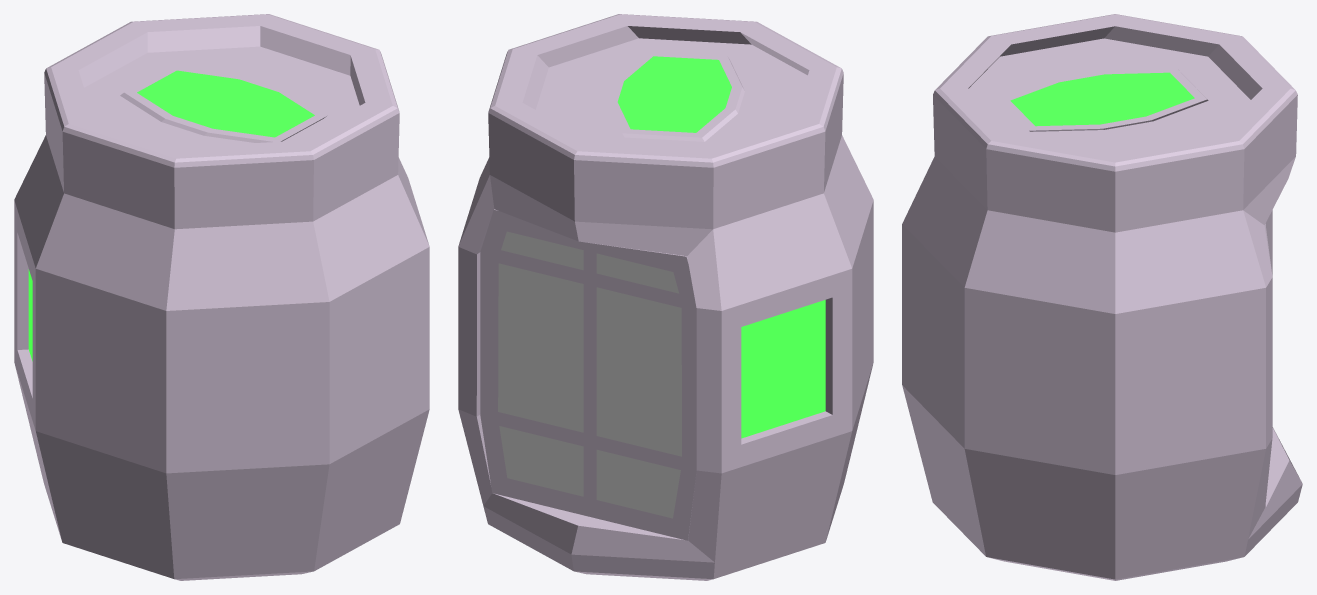
File: cargocontainer-white.glb
3 renders of one model, left to right at view 1: azimuth 30°, elevation 25°; view 2: azimuth 150°, elevation 25°; view 3: azimuth 270°, elevation 25°, orthographic.
Visible parts, largest first — view 1: cilindro, pannello; view 2: cilindro, cilindro.001, oblo, pannello; view 3: cilindro, pannello.
Boxes of the visible parts, x1,y1,x2,y2 form: cilindro: (14, 14, 429, 580); pannello: (137, 70, 314, 137); cilindro: (458, 14, 873, 580); cilindro.001: (498, 231, 681, 518); oblo: (741, 300, 825, 438); pannello: (617, 56, 731, 132); cilindro: (902, 14, 1302, 580); pannello: (1010, 72, 1194, 126).
Bounding box in the file's own units: 2.33 × 2.57 × 2.19.
